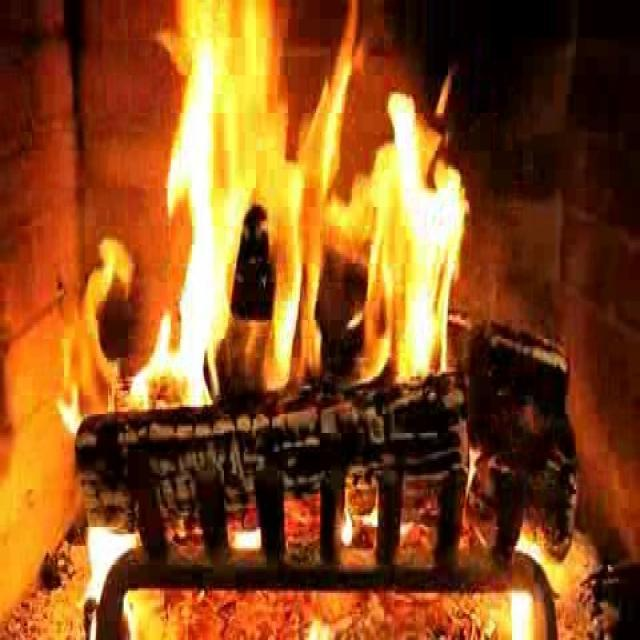Fire: (148, 36, 478, 384)
